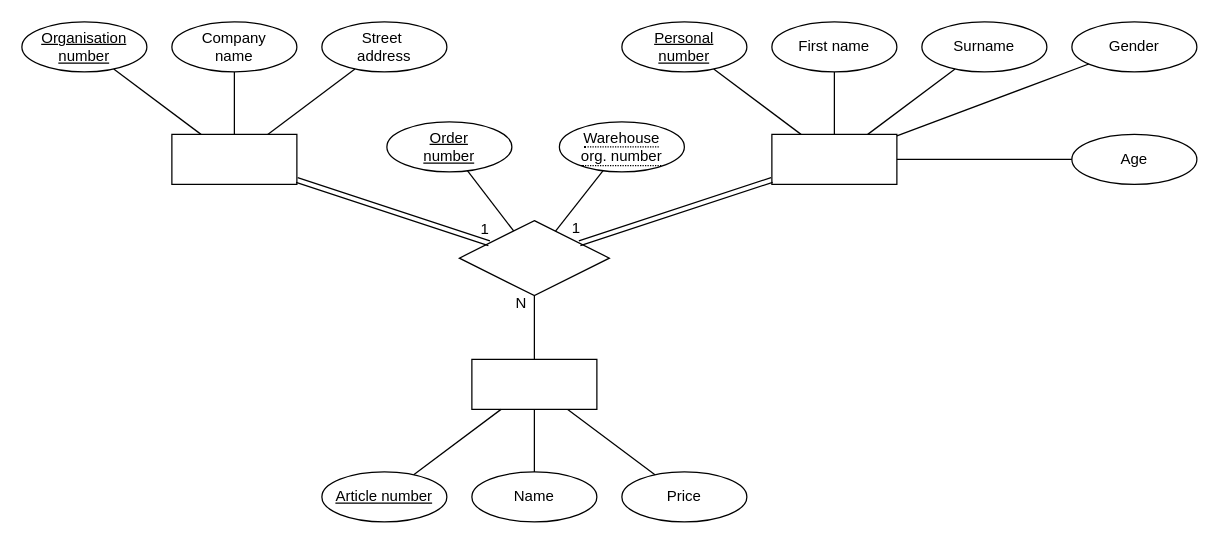
This 1219x544 diagram has some shape labels left out. Here are the shapes that lost their labels. From the top down, the centre of each, then its label:
pixel 234 158: Warehouse
pixel 834 158: Costumer
pixel 533 257: Order
pixel 534 383: Article
